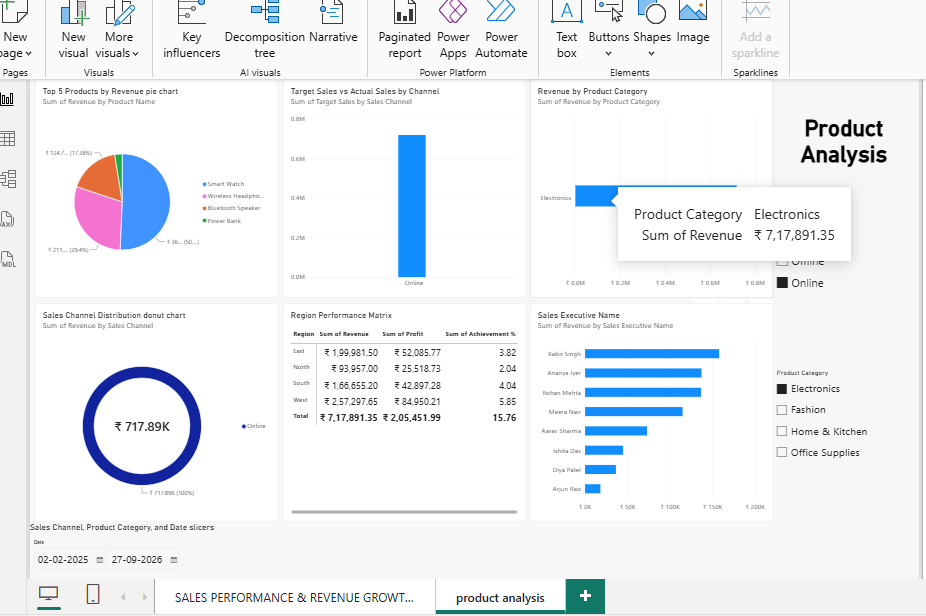

Layout of this report page (visuals, bound fields, positions):
{"tool":"powerbi","page":{"name":"product analysis","canvas":[1920,1080],"ordinal":1},"visuals":[{"type":"pieChart","title":"Top 5 Products by Revenue pie chart","fields":{"Category":["Sales.Product Name"],"Y":["Sum(Sales.Revenue)"]},"box":[10.8,0,524.9,473],"z":0},{"type":"donutChart","title":"Sales Channel Distribution donut chart","fields":{"Category":["Sales.Sales Channel"],"Y":["Sum(Sales.Revenue)"]},"box":[11,483,525,473],"z":1000},{"type":"columnChart","title":"Target Sales vs Actual Sales by Channel","fields":{"Category":["Sales.Sales Channel"],"Y":["Sum(Sales.Target Sales)"]},"box":[546,0,525,473],"z":2000},{"type":"pivotTable","title":"Region Performance Matrix","fields":{"Rows":["Sales.Region"],"Values":["Sum(Sales.Revenue)","Sum(Sales.Profit)","Sum(Sales.Achievement %)"]},"box":[546,483,525,473],"z":2001},{"type":"clusteredBarChart","title":"Revenue by Product Category","fields":{"Category":["Sales.Product Category"],"Y":["Sum(Sales.Revenue)"]},"box":[1081,0,525,473],"z":2002},{"type":"clusteredBarChart","title":"Sales Executive Name","fields":{"Category":["Sales.Sales Executive Name"],"Y":["Sum(Sales.Revenue)"]},"box":[1081,483,525,473],"z":2003},{"type":"slicer","fields":{"Values":["Sales.Sales Channel"]},"box":[1604.9,349.9,304.6,205.2],"z":2004},{"type":"slicer","fields":{"Values":["Sales.Product Category"]},"box":[1604.9,626.4,304.6,241.9],"z":2005},{"type":"slicer","title":"Sales Channel, Product Category, and Date slicers","fields":{"Values":["Sales.Date"]},"box":[0,956.9,1920.2,123.1],"z":2006},{"type":"textbox","title":"Product Analysis","box":[1607,77.8,302.4,159.8],"z":2007}]}

Visuals, with their boxes on the page's 1920x1080 design canvas (x1, y1, x2, y2). These are canvas units, not pixel positions in the 926x616 screenshot, which may show the page scaled, cropped or inside an application window:
"Top 5 Products by Revenue pie chart" pieChart: detection(11, 0, 536, 473)
"Sales Channel Distribution donut chart" donutChart: detection(11, 483, 536, 956)
"Target Sales vs Actual Sales by Channel" columnChart: detection(546, 0, 1071, 473)
"Region Performance Matrix" pivotTable: detection(546, 483, 1071, 956)
"Revenue by Product Category" clusteredBarChart: detection(1081, 0, 1606, 473)
"Sales Executive Name" clusteredBarChart: detection(1081, 483, 1606, 956)
slicer - Sales.Sales Channel: detection(1605, 350, 1910, 555)
slicer - Sales.Product Category: detection(1605, 626, 1910, 868)
"Sales Channel, Product Category, and Date slicers" slicer: detection(0, 957, 1920, 1080)
"Product Analysis" textbox: detection(1607, 78, 1909, 238)
